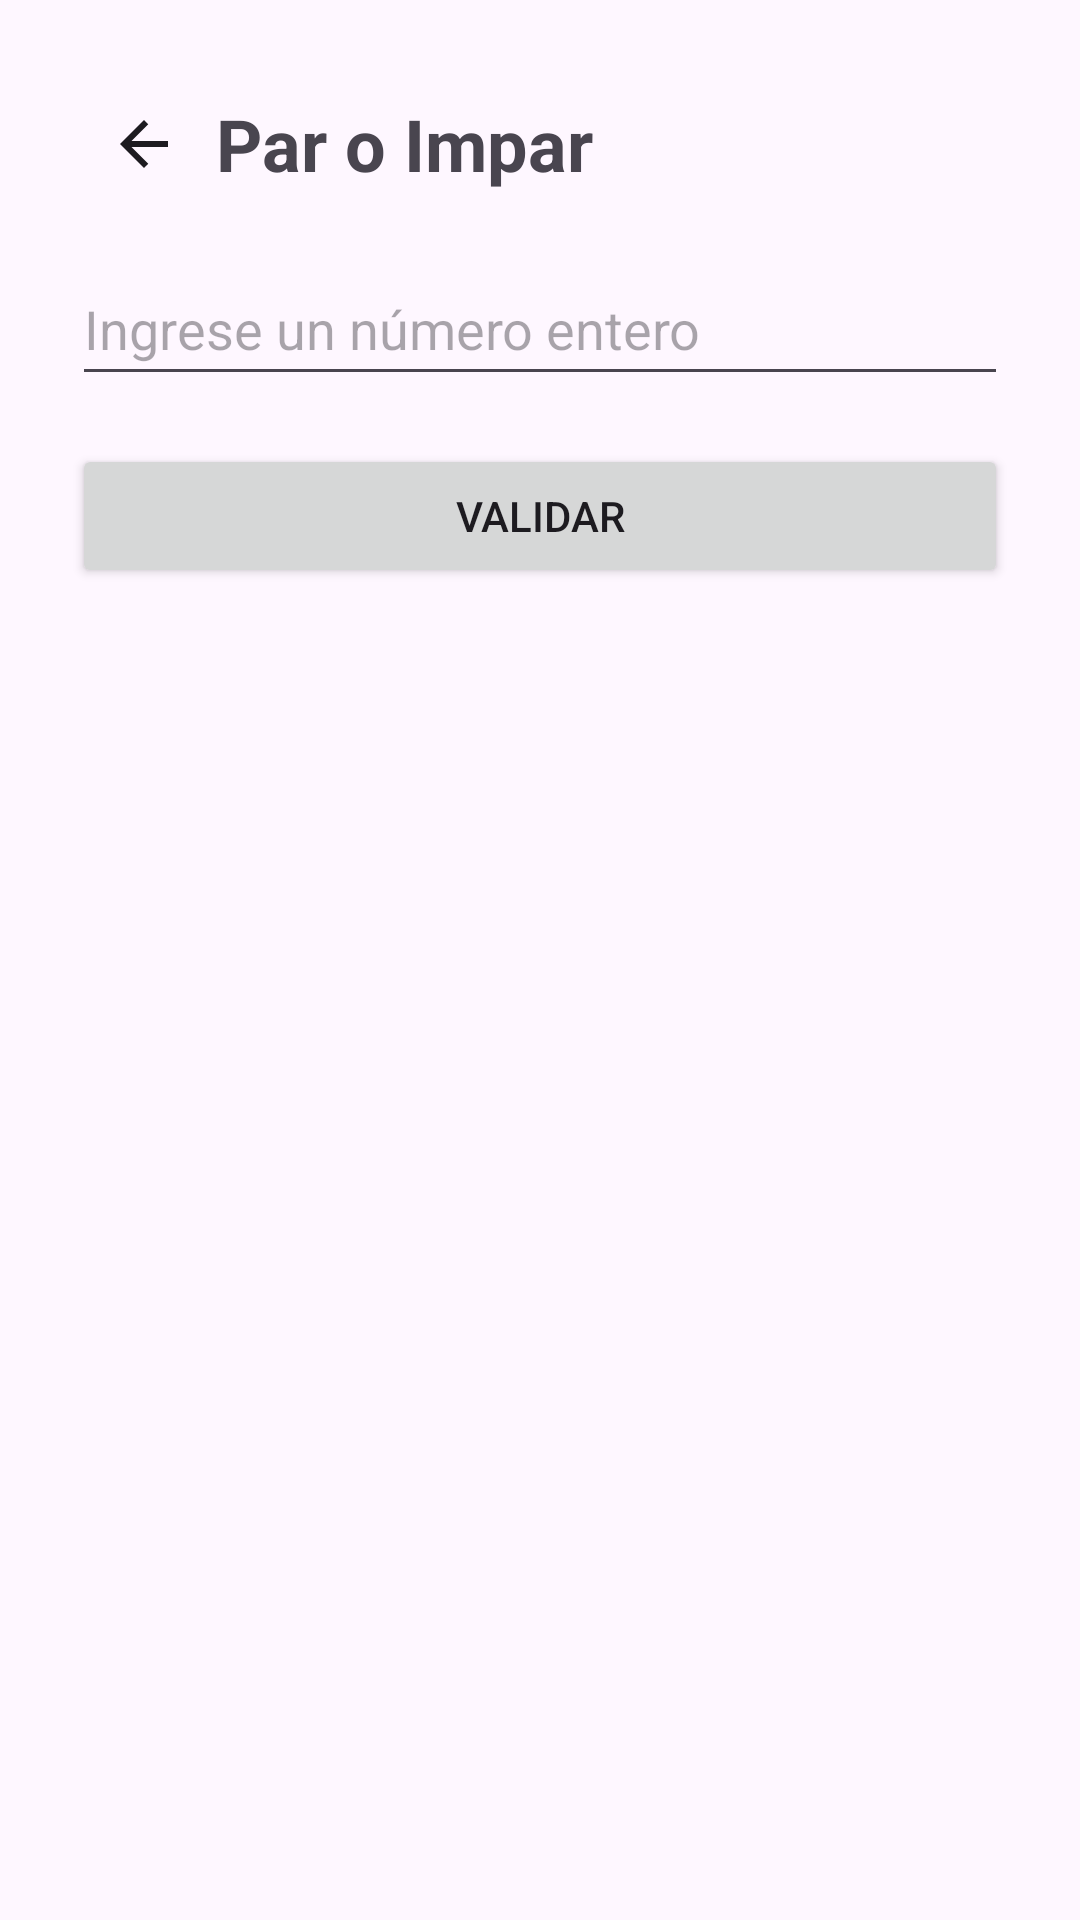

Icons on this 1080 × 1920 Android screen, each with the point to tap as [x,y]:
Regresar a la pantalla anterior: [144,144]
